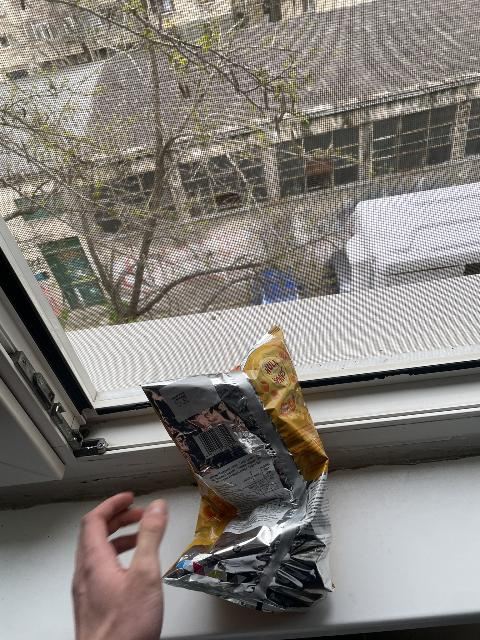Chio Hula Hoops Cheese 70g: (141, 328, 332, 614)
